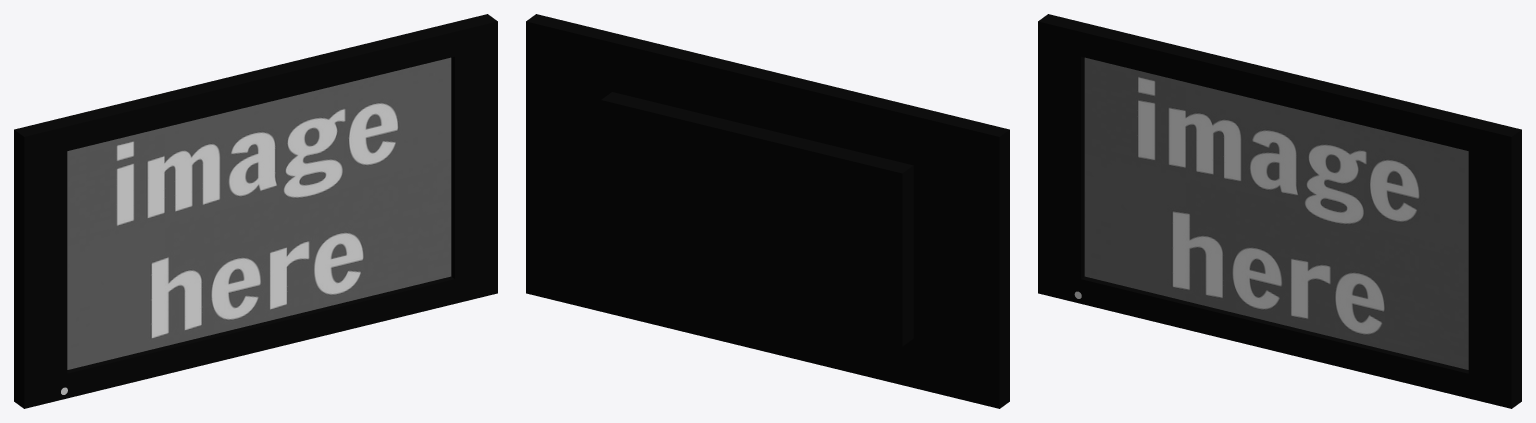
3 views of the same model, side by side, from view 1: azimuth 30°, elevation 25°; view 2: azimuth 150°, elevation 25°; view 3: azimuth 330°, elevation 25° (orthographic).
Visible parts, largest first — view 1: screen, Frame; view 2: Frame; view 3: screen, Frame.
Boxes of the visible parts, x1,y1,x2,y2 form: screen: (67, 57, 451, 369); Frame: (14, 14, 497, 408); Frame: (526, 14, 1009, 408); screen: (1084, 57, 1468, 369); Frame: (1038, 14, 1521, 408).
Size of the model in its own units: 5.45 by 2.99 by 0.4231.
3 materials, 1 textured.
